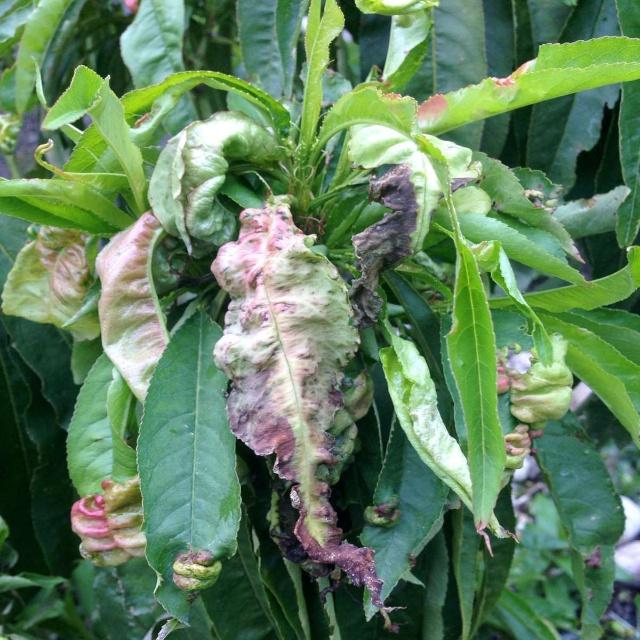leaf_curl: (219, 186, 372, 635), (51, 374, 200, 611), (352, 34, 431, 387)
